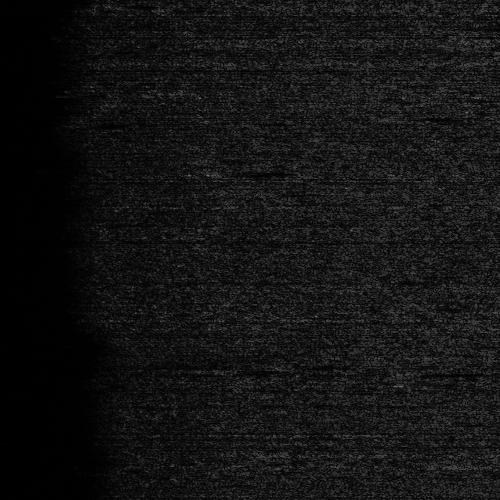rock: (173, 166, 256, 173), (486, 48, 500, 53)
shadow: (215, 166, 292, 173)
